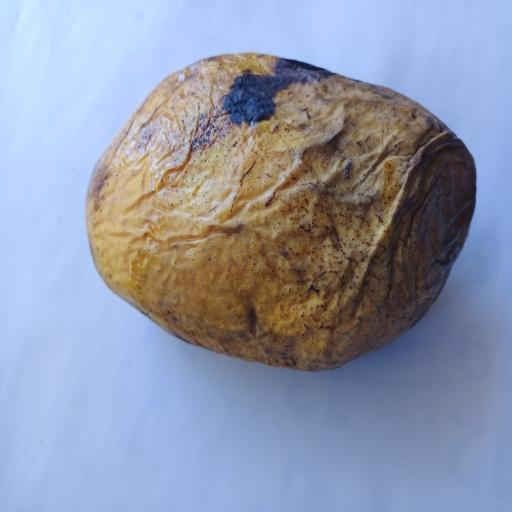mango-overripe: (86, 34, 490, 381)
